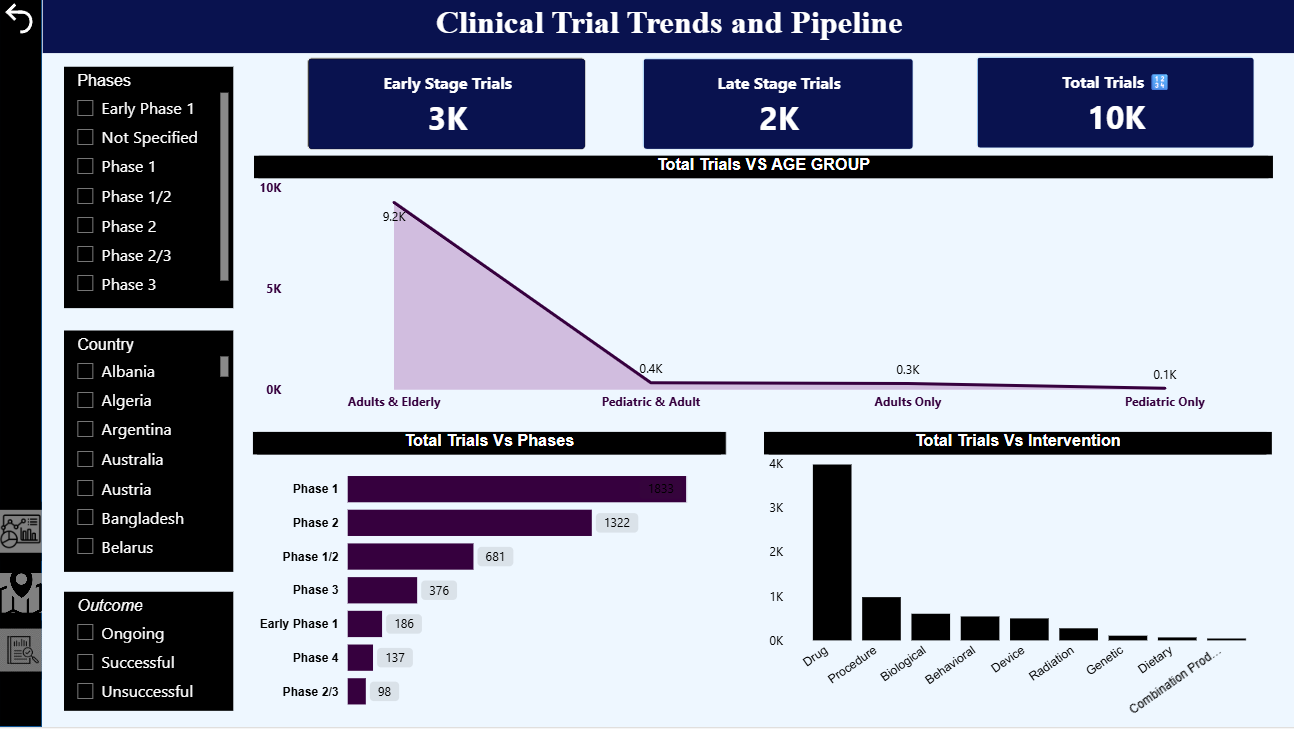

Layout of this report page (visuals, bound fields, positions):
{"tool":"powerbi","page":{"name":"Trial Trends and Pipelines","canvas":[1280,720],"ordinal":2},"visuals":[{"type":"shape","box":[0,0,42.8,720.2],"z":0},{"type":"textbox","box":[42.7,0,1237.3,54],"z":1000},{"type":"slicer","fields":{"Values":["Clinical Trials Data.Outcome "]},"box":[64.8,587,167.5,117.4],"z":2000},{"type":"slicer","fields":{"Values":["Clinical Trials Data.Country"]},"box":[64.8,328.9,167.5,238.5],"z":3000},{"type":"cardVisual","fields":{"Data":["TABLE.Early Stage Trials"]},"box":[287.4,41.6,309.4,126],"z":4000},{"type":"cardVisual","fields":{"Data":["TABLE.Late Stage Trials"]},"box":[618.8,41.6,302,126],"z":5000},{"type":"cardVisual","fields":{"Data":["TABLE.Total Trials 🔢"]},"box":[947.7,40.4,309.4,126],"z":6000},{"type":"barChart","title":"Total Trials Vs Phases","fields":{"Category":["Clinical Trials Data.Phases"],"Y":["TABLE.Total Trials 🔢"]},"box":[250.7,428,467.1,288.6],"z":7000},{"type":"lineChart","title":"Total Trials VS AGE GROUP","fields":{"Category":["Clinical Trials Data.AGE GROUP"],"Y":["TABLE.Total Trials 🔢"]},"box":[251.9,155.3,1006.4,261.7],"z":8000},{"type":"clusteredColumnChart","title":"Total Trials Vs Intervention","fields":{"Category":["Clinical Trials Data.Intervention"],"Y":["TABLE.Total Trials 🔢"]},"box":[755.7,428,501.4,292.3],"z":9000},{"type":"actionButton","box":[0,0,100,40],"z":10000},{"type":"actionButton","box":[0,615.1,42.8,58.7],"z":11000},{"type":"actionButton","box":[0,567.4,42.8,39.1],"z":12000},{"type":"actionButton","box":[0,497.7,42.8,58.7],"z":13000},{"type":"slicer","fields":{"Values":["Clinical Trials Data.Phases"]},"box":[64.8,68.5,167.5,238.5],"z":13001}]}

Visuals, with their boxes on the page's 1280x720 design canvas (x1, y1, x2, y2). These are canvas units, not pixel positions in the 1294x729 screenshot, which may show the page scaled, cropped or inside an application window:
shape: detection(0, 0, 43, 720)
textbox: detection(43, 0, 1280, 54)
slicer - Clinical Trials Data.Outcome : detection(65, 587, 232, 704)
slicer - Clinical Trials Data.Country: detection(65, 329, 232, 567)
cardVisual - TABLE.Early Stage Trials: detection(287, 42, 597, 168)
cardVisual - TABLE.Late Stage Trials: detection(619, 42, 921, 168)
cardVisual - TABLE.Total Trials 🔢: detection(948, 40, 1257, 166)
"Total Trials Vs Phases" barChart: detection(251, 428, 718, 717)
"Total Trials VS AGE GROUP" lineChart: detection(252, 155, 1258, 417)
"Total Trials Vs Intervention" clusteredColumnChart: detection(756, 428, 1257, 720)
actionButton: detection(0, 0, 100, 40)
actionButton: detection(0, 615, 43, 674)
actionButton: detection(0, 567, 43, 606)
actionButton: detection(0, 498, 43, 556)
slicer - Clinical Trials Data.Phases: detection(65, 68, 232, 307)
